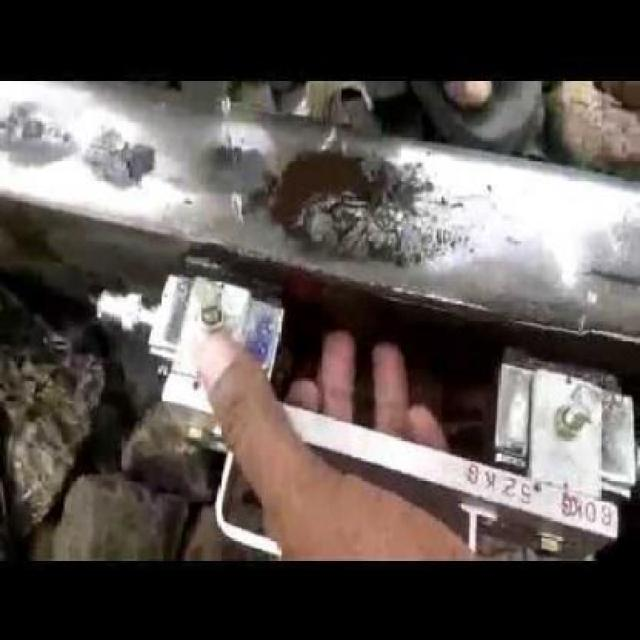defective: (0, 67, 640, 363)
